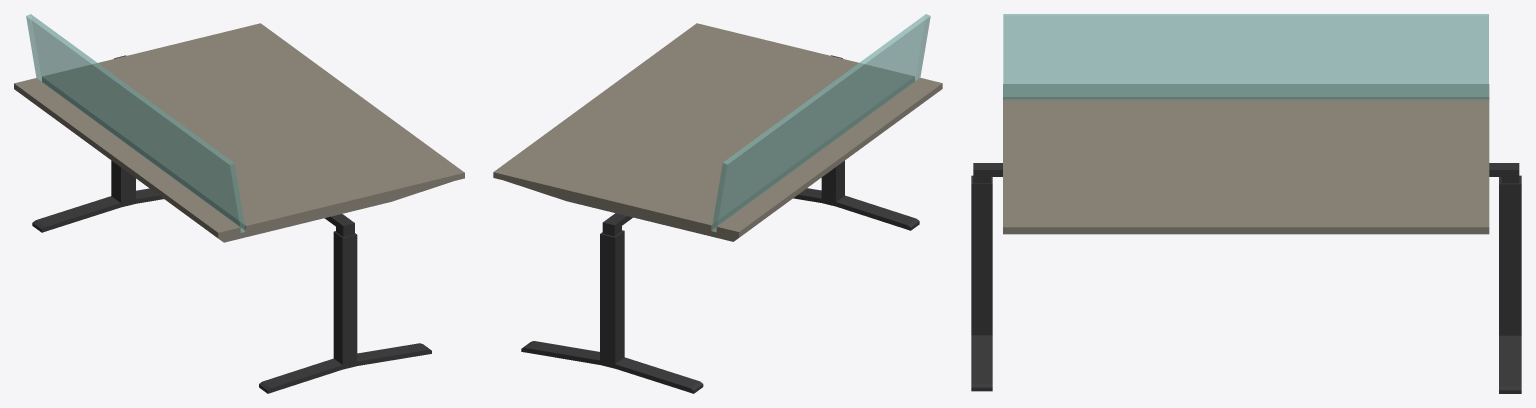
Rendered from Desk_01.fbx.
3 renders of one model, left to right at view 1: azimuth 30°, elevation 25°; view 2: azimuth 150°, elevation 25°; view 3: azimuth 270°, elevation 25°, orthographic. The views are drawn at different scales.
Parts seen in each view (by area): view 1: pCube4; view 2: pCube4; view 3: pCube4.
Part boxes in pixels (bbox=[...]): pCube4: bbox=[14, 14, 464, 393]; pCube4: bbox=[493, 14, 942, 393]; pCube4: bbox=[971, 14, 1521, 393].
Size of the model in its own units: 251 by 220 by 408.
